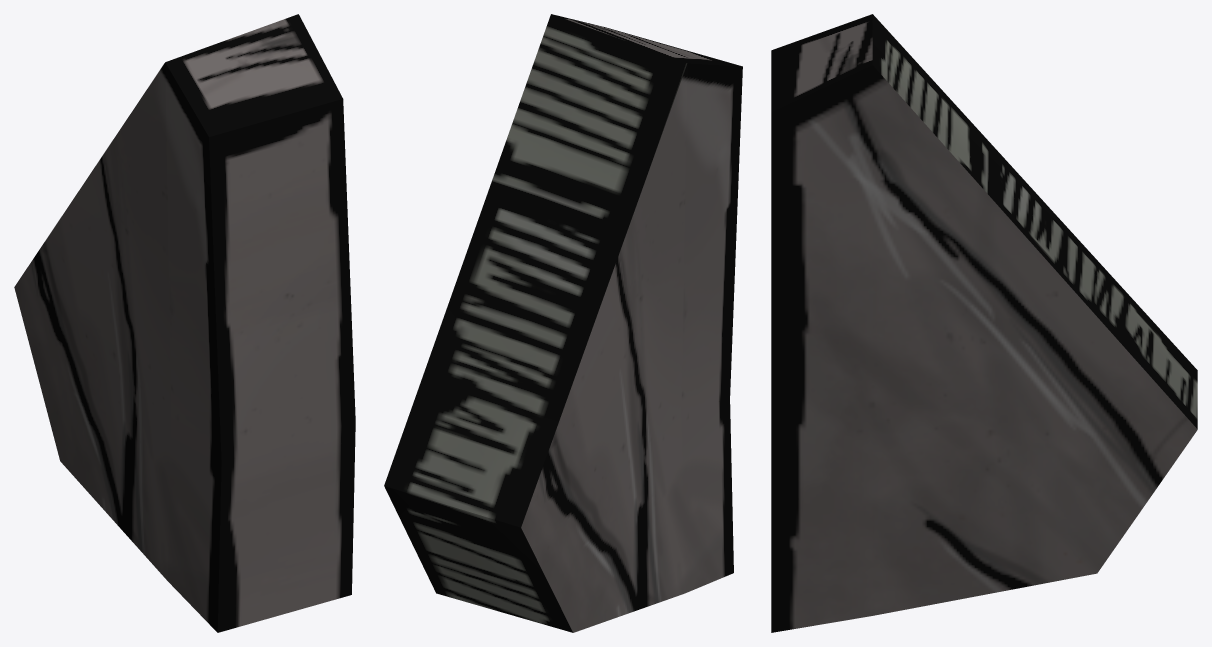
Rendered from tombstone_04_gib4.fbx.
3 views of the same model, side by side, from view 1: azimuth 30°, elevation 25°; view 2: azimuth 150°, elevation 25°; view 3: azimuth 270°, elevation 25° (orthographic). The views are drawn at different scales.
Visible parts, largest first — view 1: tombstone_04_gib4; view 2: tombstone_04_gib4; view 3: tombstone_04_gib4.
Part boxes in pixels (x1,y1,x2,y2): tombstone_04_gib4: [14, 14, 355, 632]; tombstone_04_gib4: [384, 14, 742, 632]; tombstone_04_gib4: [771, 14, 1197, 632].
Size of the model in its own units: 1.09 by 3.92 by 2.65.
